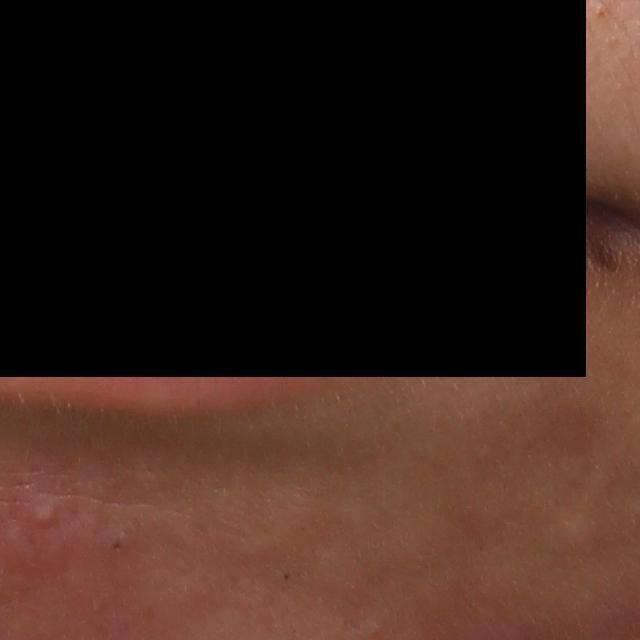hypertrophic_scar: (536, 501, 612, 564)
nevus: (588, 232, 618, 271)
papule: (25, 494, 60, 532)
